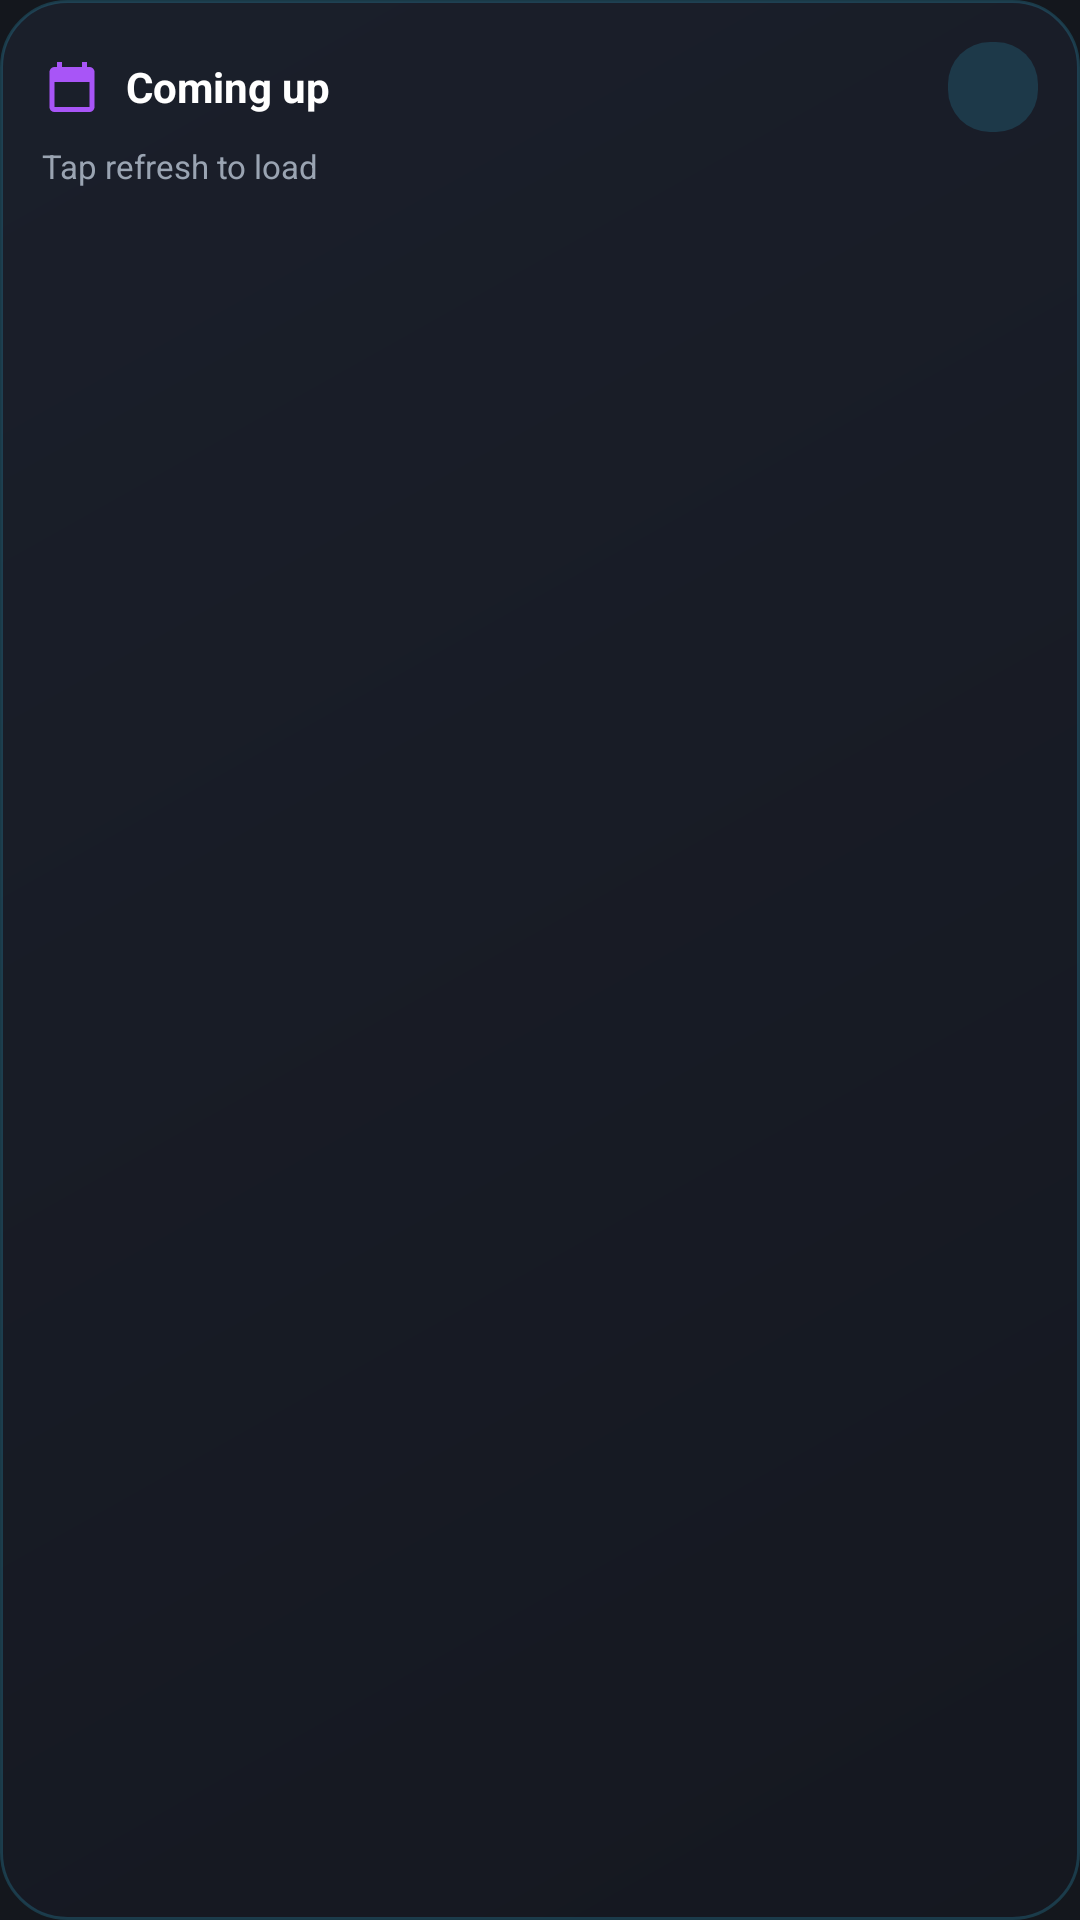

Named icons in this screenshot (1080 x 1920) and their centers, [x,y]:
calendar: [72,87]
